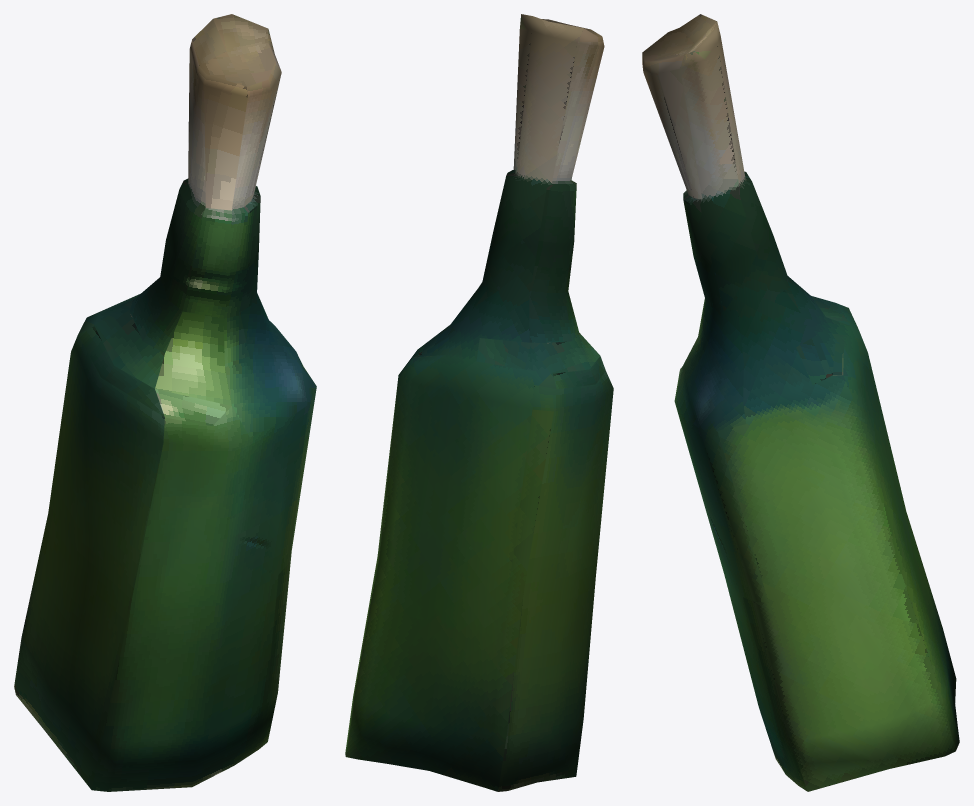
Rendered from item_fish_bottled_message.glb.
3 renders of one model, left to right at view 1: azimuth 30°, elevation 25°; view 2: azimuth 150°, elevation 25°; view 3: azimuth 270°, elevation 25°, orthographic. The views are drawn at different scales.
Visible parts, largest first — view 1: tripo_node_478a10ae-fe3c-47b5-877f-46ad0e09c228; view 2: tripo_node_478a10ae-fe3c-47b5-877f-46ad0e09c228; view 3: tripo_node_478a10ae-fe3c-47b5-877f-46ad0e09c228.
Boxes of the visible parts, x1,y1,x2,y2 form: tripo_node_478a10ae-fe3c-47b5-877f-46ad0e09c228: [14, 14, 316, 791]; tripo_node_478a10ae-fe3c-47b5-877f-46ad0e09c228: [345, 14, 613, 791]; tripo_node_478a10ae-fe3c-47b5-877f-46ad0e09c228: [642, 14, 959, 791].
Size of the model in its own units: 0.1233 by 0.4807 by 0.1886.
1 material, 1 textured.
